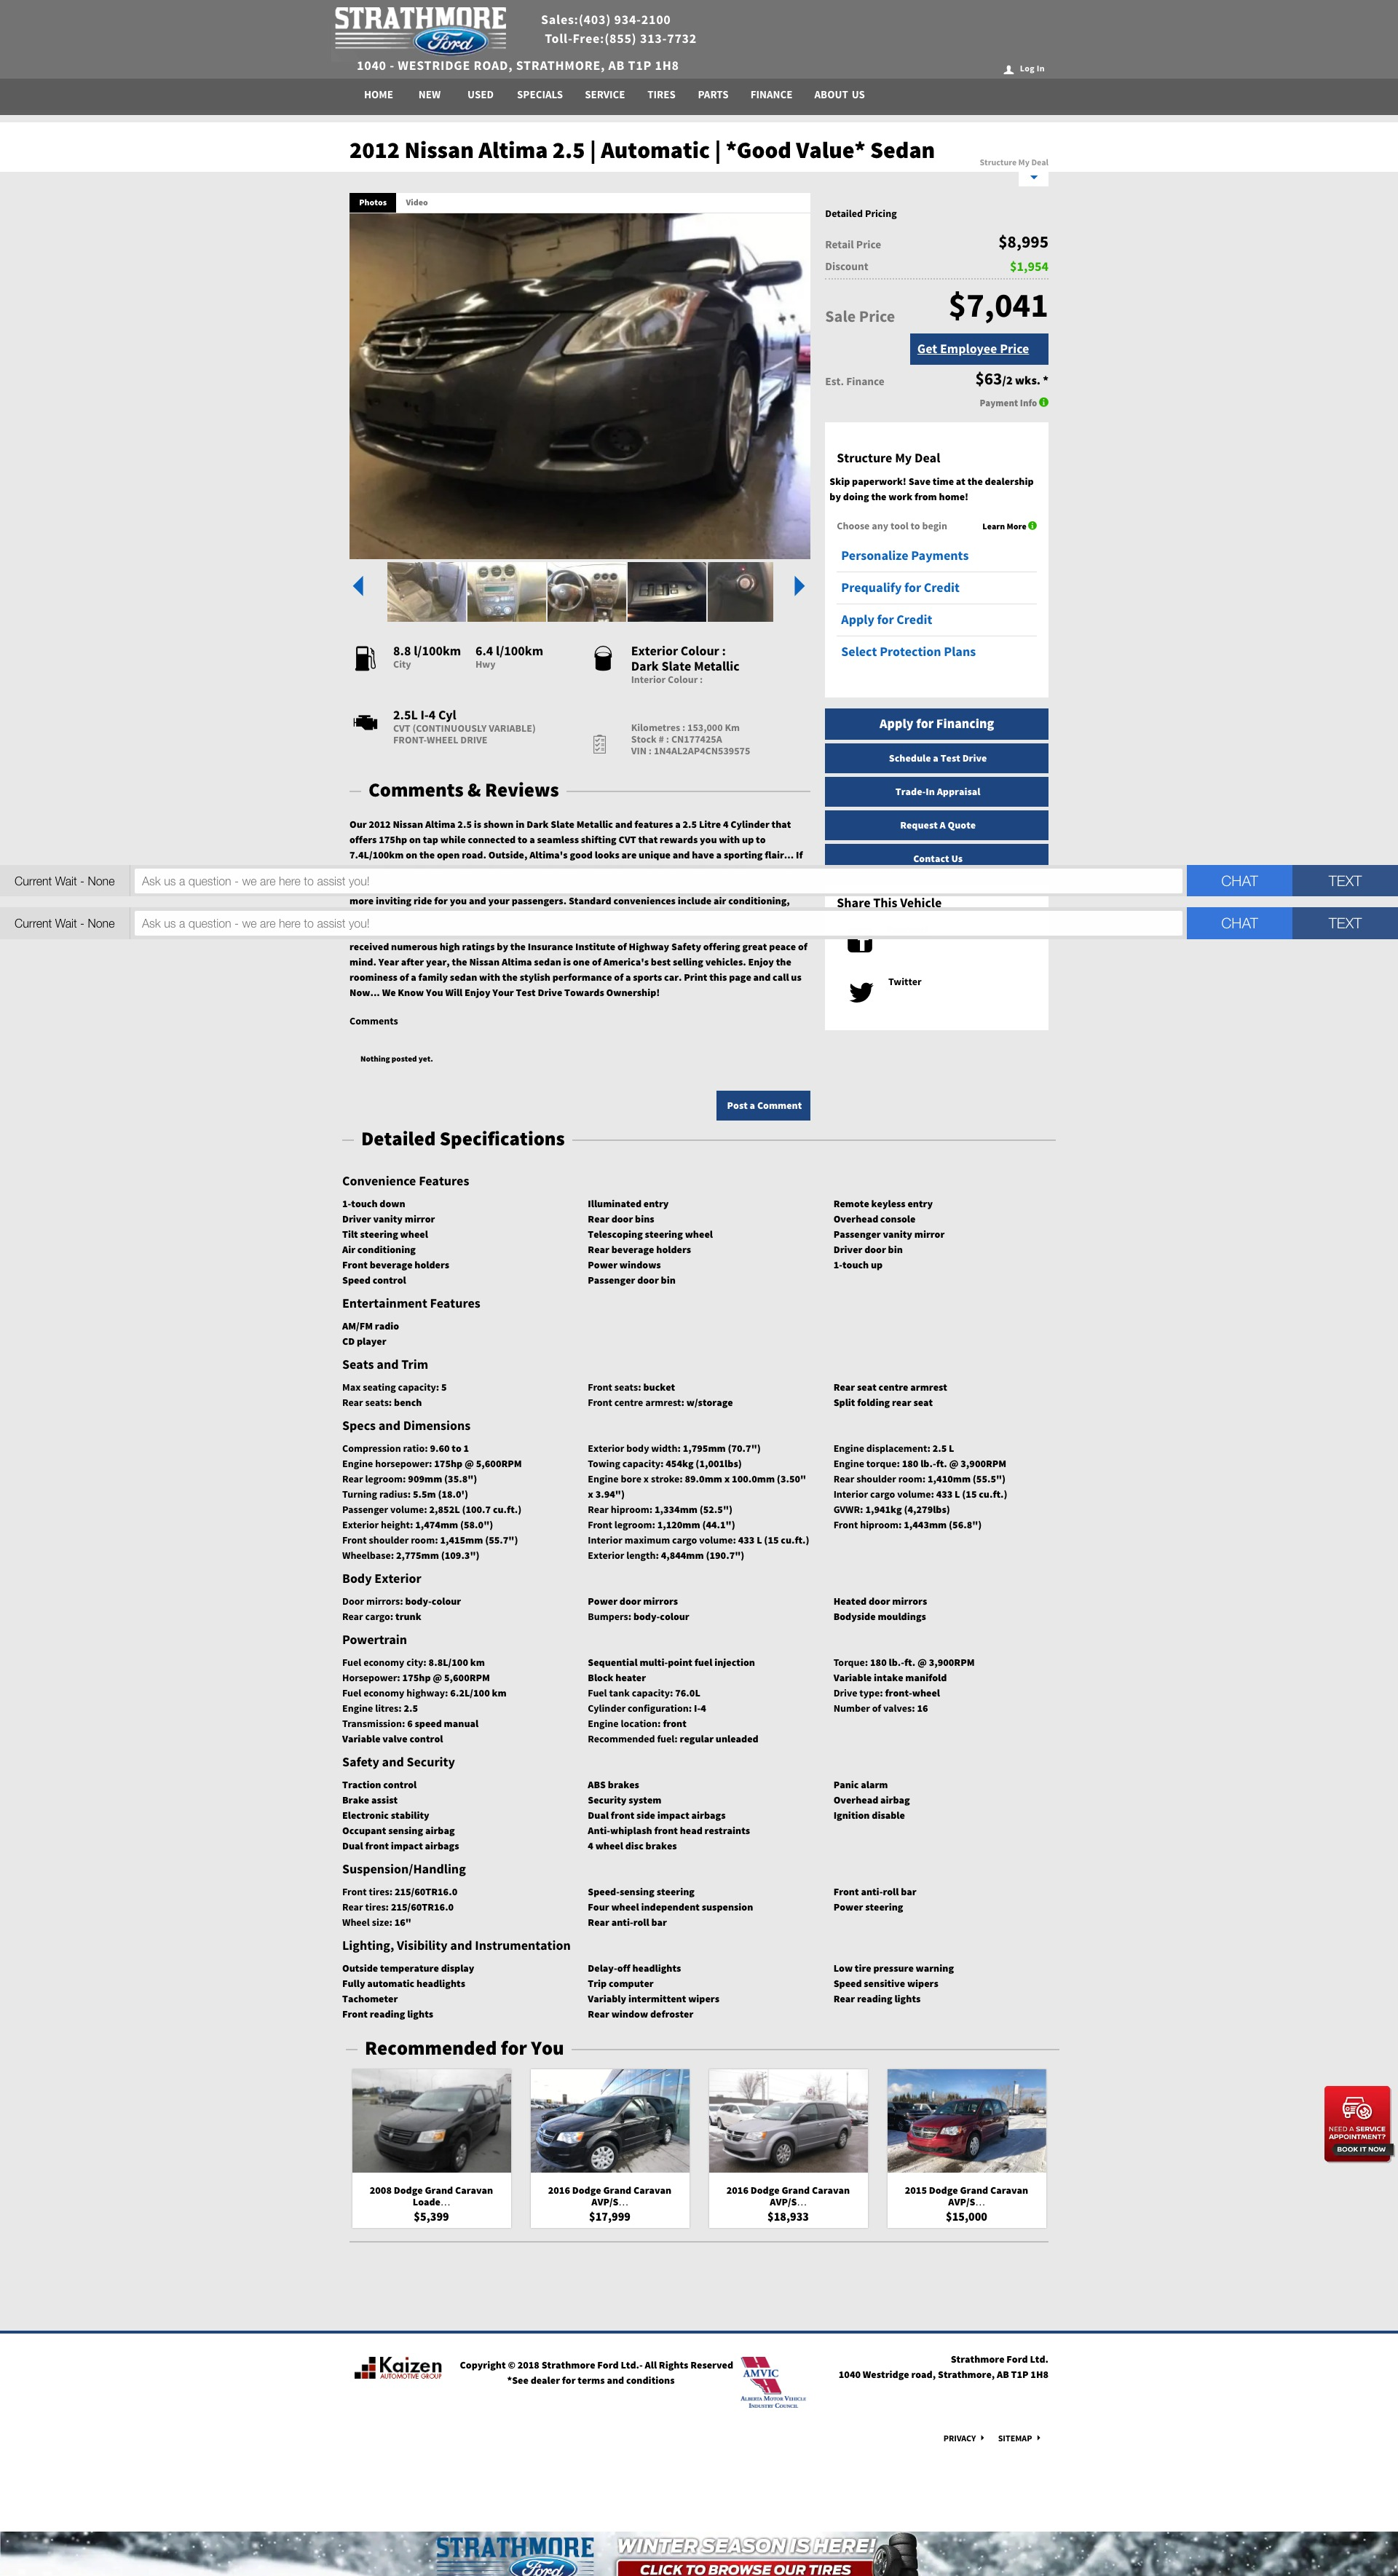car: (790, 575, 807, 597)
